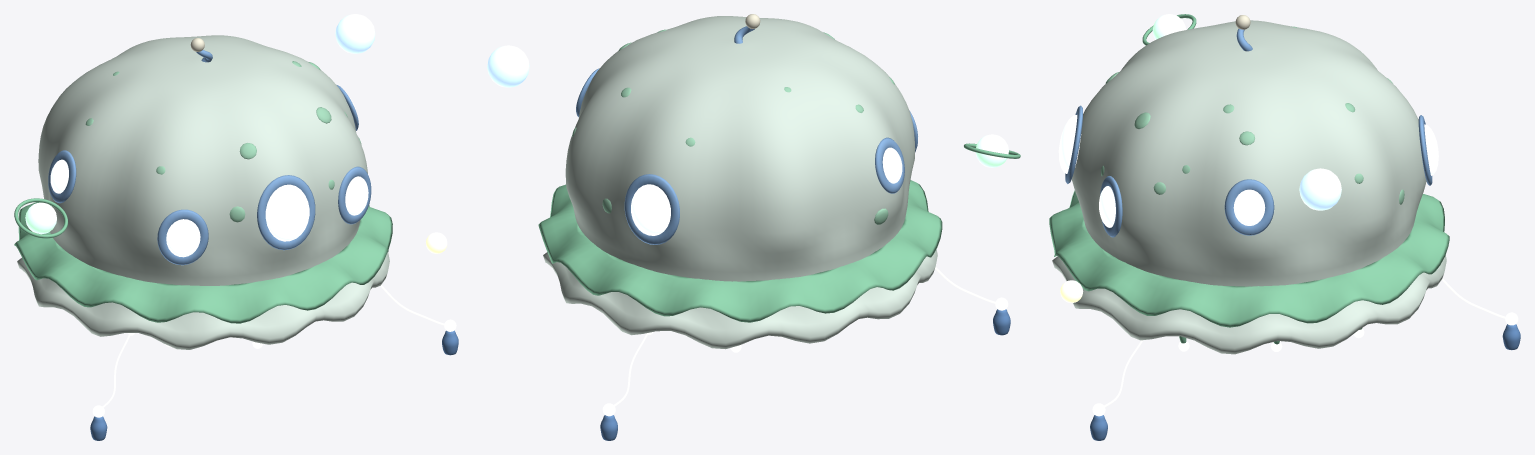
File: house_05_0505.fbx
3 renders of one model, left to right at view 1: azimuth 30°, elevation 25°; view 2: azimuth 150°, elevation 25°; view 3: azimuth 270°, elevation 25°, orthographic. The views are drawn at different scales.
Parts seen in each view (by area): view 1: House05_Dome, House05_Frill, House05_WindowRims, House05_Windows, House05_FloatOrb_1, House05_FloatOrb_2, House05_Spots; view 2: House05_Dome, House05_Frill, House05_WindowRims, House05_Windows, House05_FloatOrb_2, House05_FloatOrb_1, House05_Spots; view 3: House05_Dome, House05_Frill, House05_WindowRims, House05_Windows, House05_FloatOrb_2, House05_Spots, House05_FloatOrb_1.
Boxes of the visible parts, x1,y1,x2,y2 form: House05_Dome: (17,35,389,349); House05_Frill: (14,202,392,323); House05_WindowRims: (48,85,371,265); House05_Windows: (50,96,368,257); House05_FloatOrb_1: (14,198,68,238); House05_FloatOrb_2: (335,14,375,53); House05_Spots: (50,61,361,222); House05_Dome: (543,16,937,349); House05_Frill: (538,180,942,322); House05_WindowRims: (576,68,917,244); House05_Windows: (579,80,902,235); House05_FloatOrb_2: (487,45,529,87); House05_FloatOrb_1: (964,134,1020,167); House05_Spots: (572,29,894,224); House05_Dome: (1052,20,1446,354); House05_Frill: (1049,190,1449,327); House05_WindowRims: (1065,105,1432,237); House05_Windows: (1058,115,1438,227); House05_FloatOrb_2: (1299,168,1341,210); House05_Spots: (1101,26,1404,204); House05_FloatOrb_1: (1142,14,1196,45).
Size of the model in its own units: 5.87 by 4.07 by 5.3.
